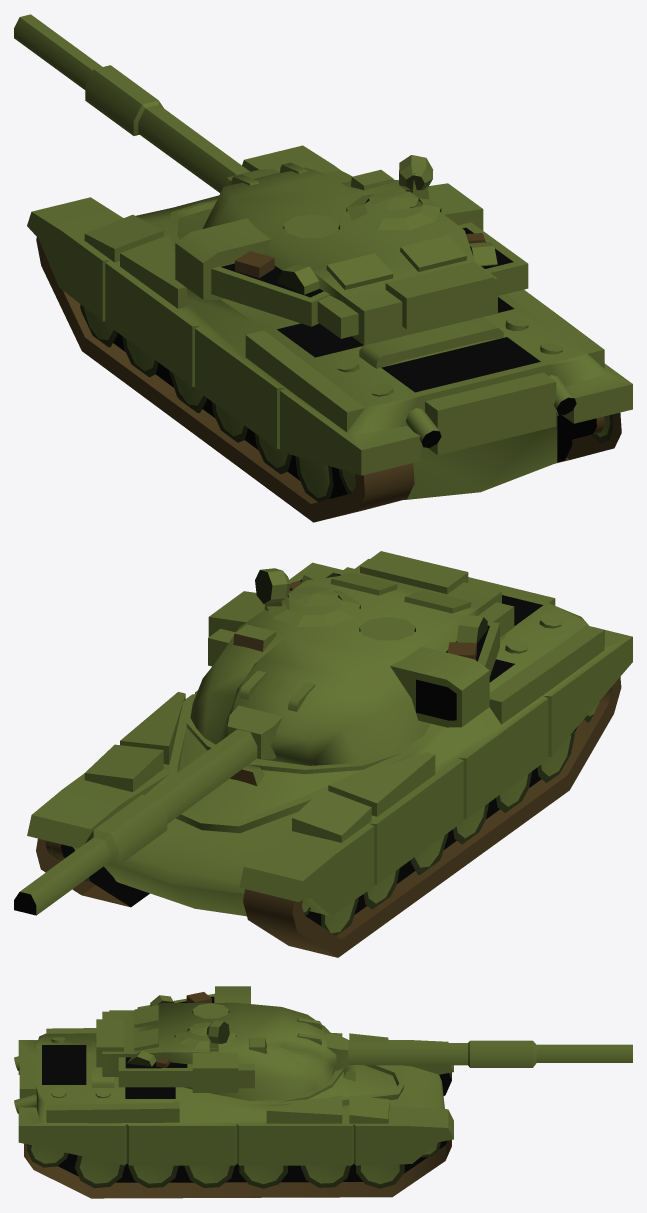
File: chieftain.glb
3 views of the same model, one above another, from view 1: azimuth 30°, elevation 25°; view 2: azimuth 150°, elevation 25°; view 3: azimuth 270°, elevation 25° (orthographic). The views are drawn at different scales.
Visible parts, largest first — view 1: hull.002, chieftain_turret.001, barrel; view 2: hull.002, chieftain_turret.001, barrel; view 3: hull.002, chieftain_turret.001, barrel.
Part boxes in pixels (left/top/right/bottom): hull.002: left=27, top=145, right=632, bottom=522; chieftain_turret.001: left=175, top=155, right=528, bottom=345; barrel: left=14, top=14, right=279, bottom=192; hull.002: left=27, top=567, right=632, bottom=957; chieftain_turret.001: left=190, top=551, right=514, bottom=765; barrel: left=14, top=705, right=282, bottom=915; hull.002: left=14, top=1028, right=453, bottom=1198; chieftain_turret.001: left=96, top=986, right=336, bottom=1100; barrel: left=326, top=1033, right=632, bottom=1070.
Size of the model in its own units: 0.3387 by 0.2833 by 1.
